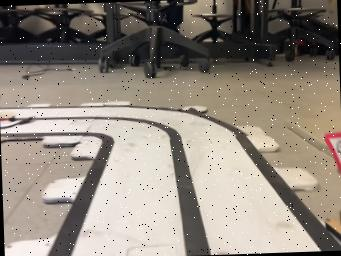street: (39, 104, 341, 256), (39, 104, 341, 256), (39, 104, 341, 256)
